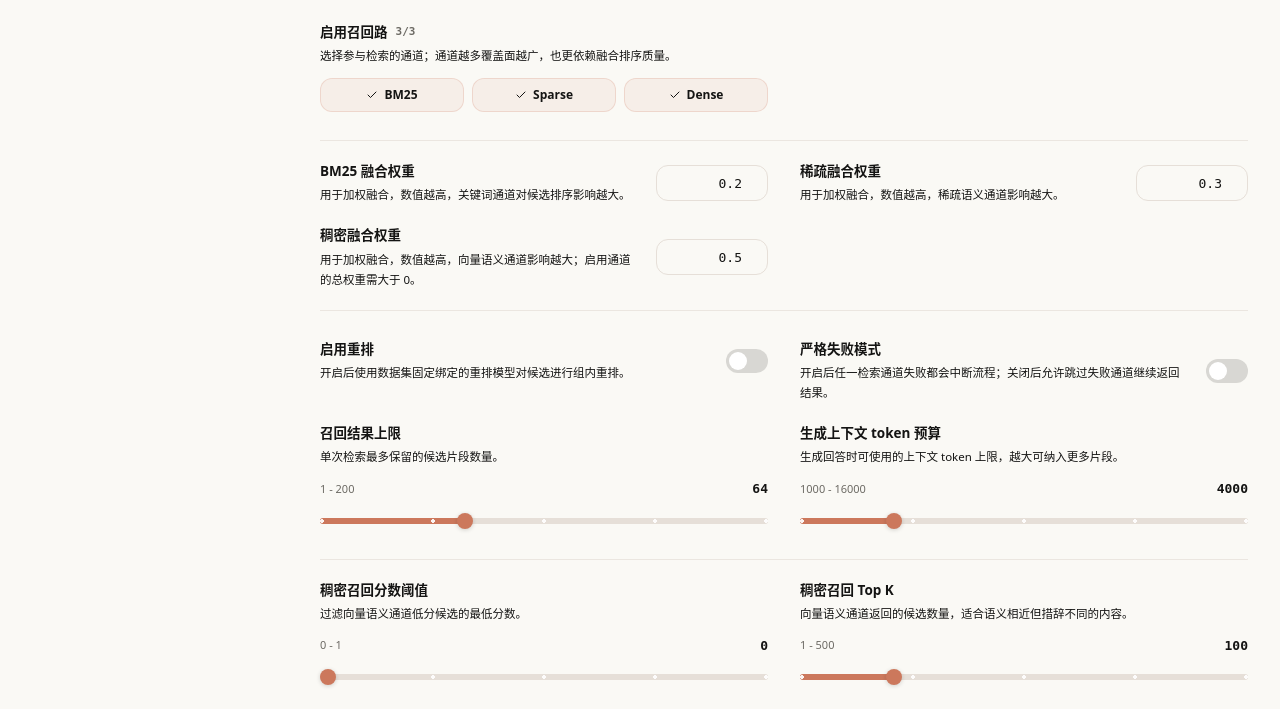
Scenario: dataset parse config model defaults › does not enable 启用重排 when RERANK has no executable candidate
The width and height of the screenshot is (1280, 709).
(page scrolled)
Click the button named "启用重排". click: (747, 361)
box: [726, 349, 768, 373]
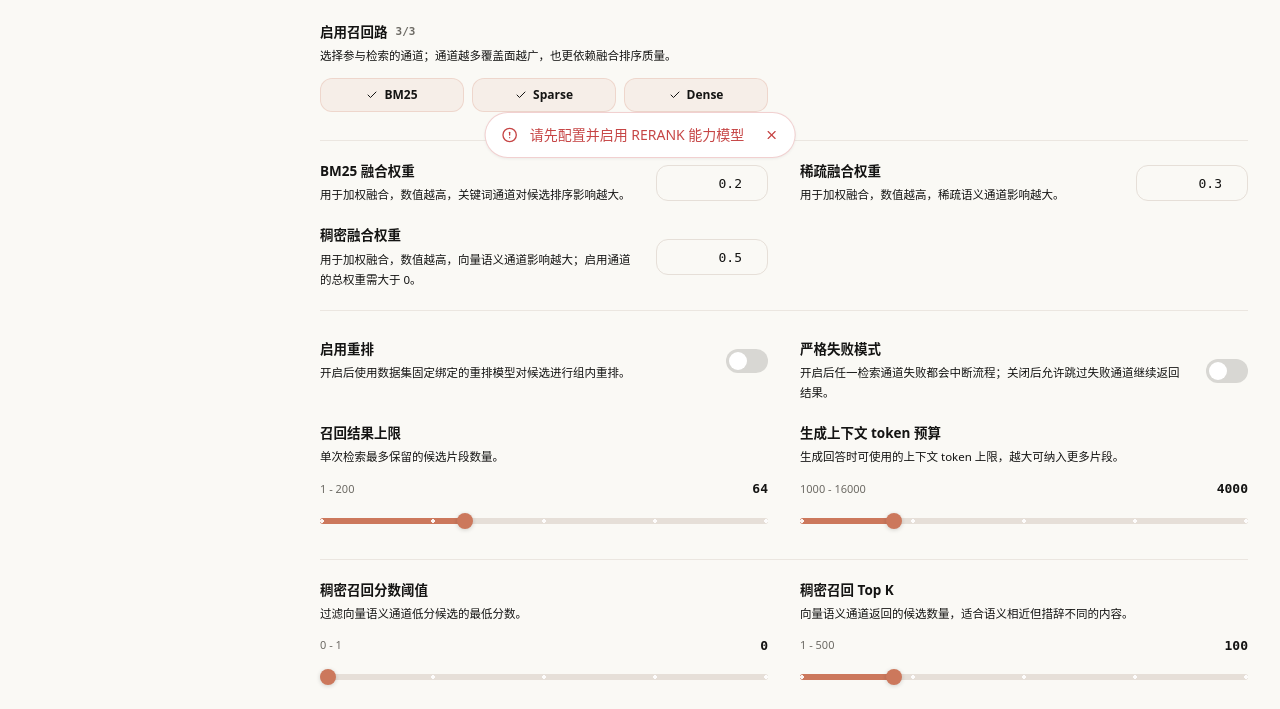
Expected: the text "请先配置并启用 RERANK 能力模型" is shown, [530, 125, 744, 145]
